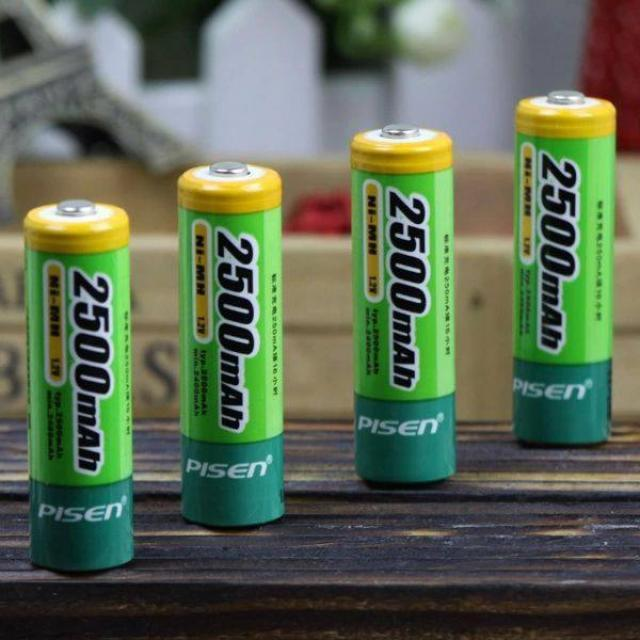Hazard: (23, 198, 136, 573), (176, 159, 287, 531), (350, 121, 459, 492), (512, 90, 615, 448)
